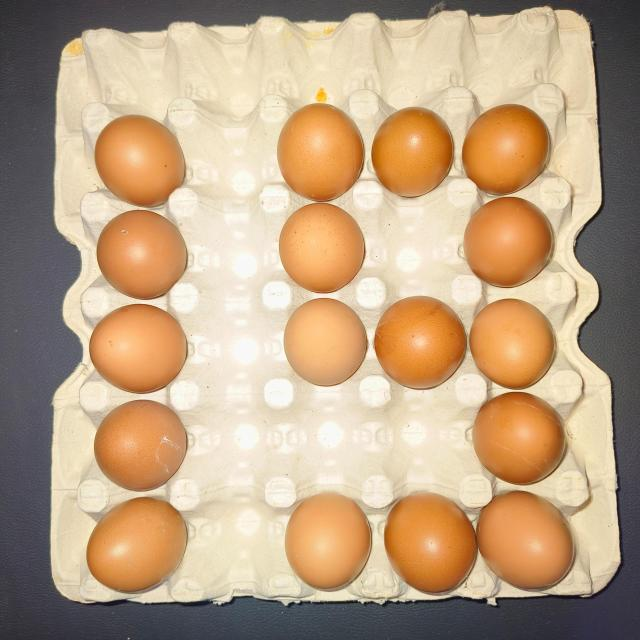Eggs: (480, 488, 581, 586), (388, 488, 477, 592), (89, 493, 188, 582), (92, 396, 184, 486), (95, 212, 185, 298), (478, 394, 564, 483), (474, 295, 556, 388), (90, 307, 185, 387), (96, 116, 182, 203), (281, 200, 364, 290), (292, 492, 368, 589), (465, 200, 550, 284), (279, 108, 361, 195), (283, 297, 365, 383), (384, 301, 466, 385), (465, 106, 546, 190), (381, 110, 449, 196)
